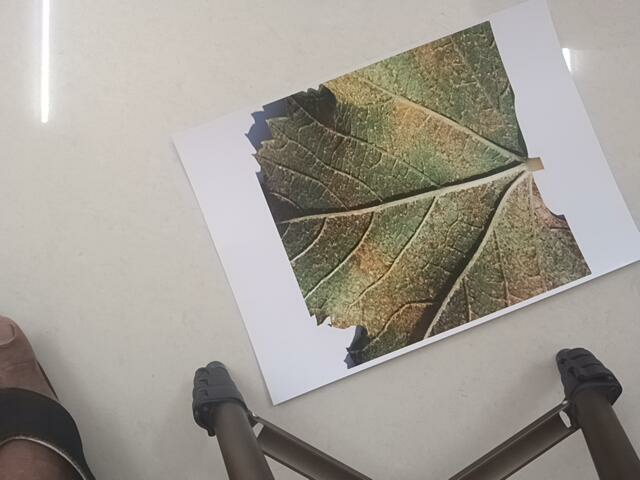Grape_Rust_Fungus: (244, 21, 593, 344)
